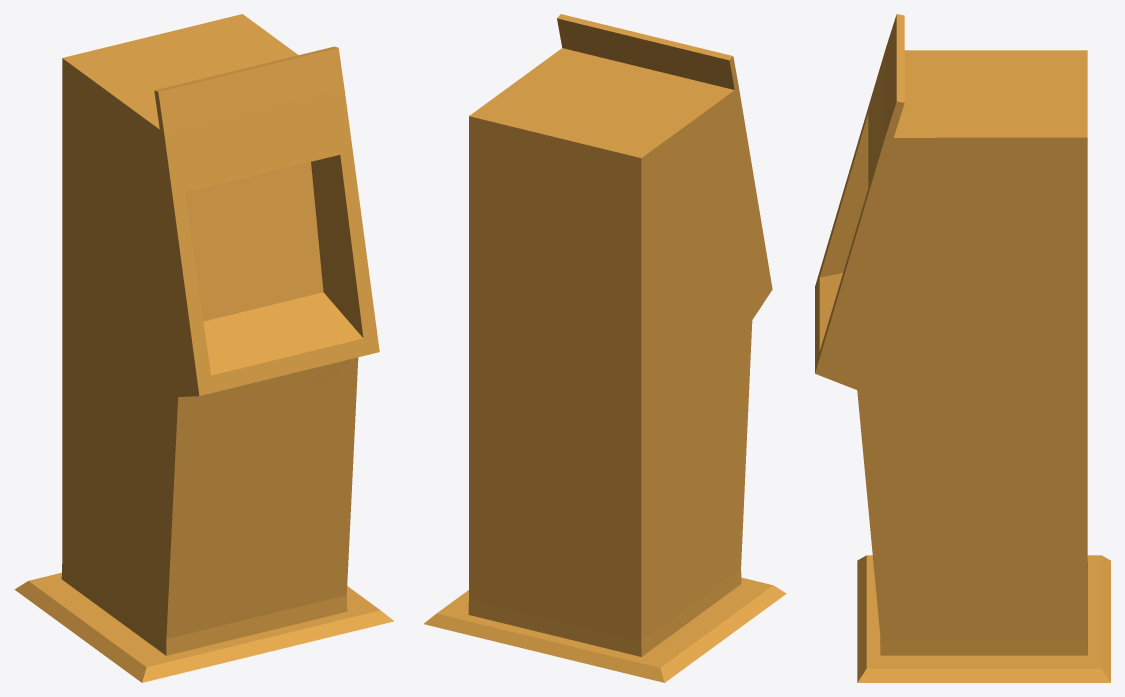
File: atm-mechine.glb
The picture shows the model from 3 angles, left to right: view 1: azimuth 30°, elevation 25°; view 2: azimuth 150°, elevation 25°; view 3: azimuth 270°, elevation 25°; orthographic projection. The views are drawn at different scales.
Parts seen in each view (by area): view 1: atm-mechine.fbx; view 2: atm-mechine.fbx; view 3: atm-mechine.fbx.
Part boxes in pixels (x1,y1,x2,y2): atm-mechine.fbx: (14, 14, 393, 682); atm-mechine.fbx: (424, 14, 786, 682); atm-mechine.fbx: (815, 14, 1110, 682).
Bounding box in the file's own units: 0.8 × 1.72 × 0.8169.
